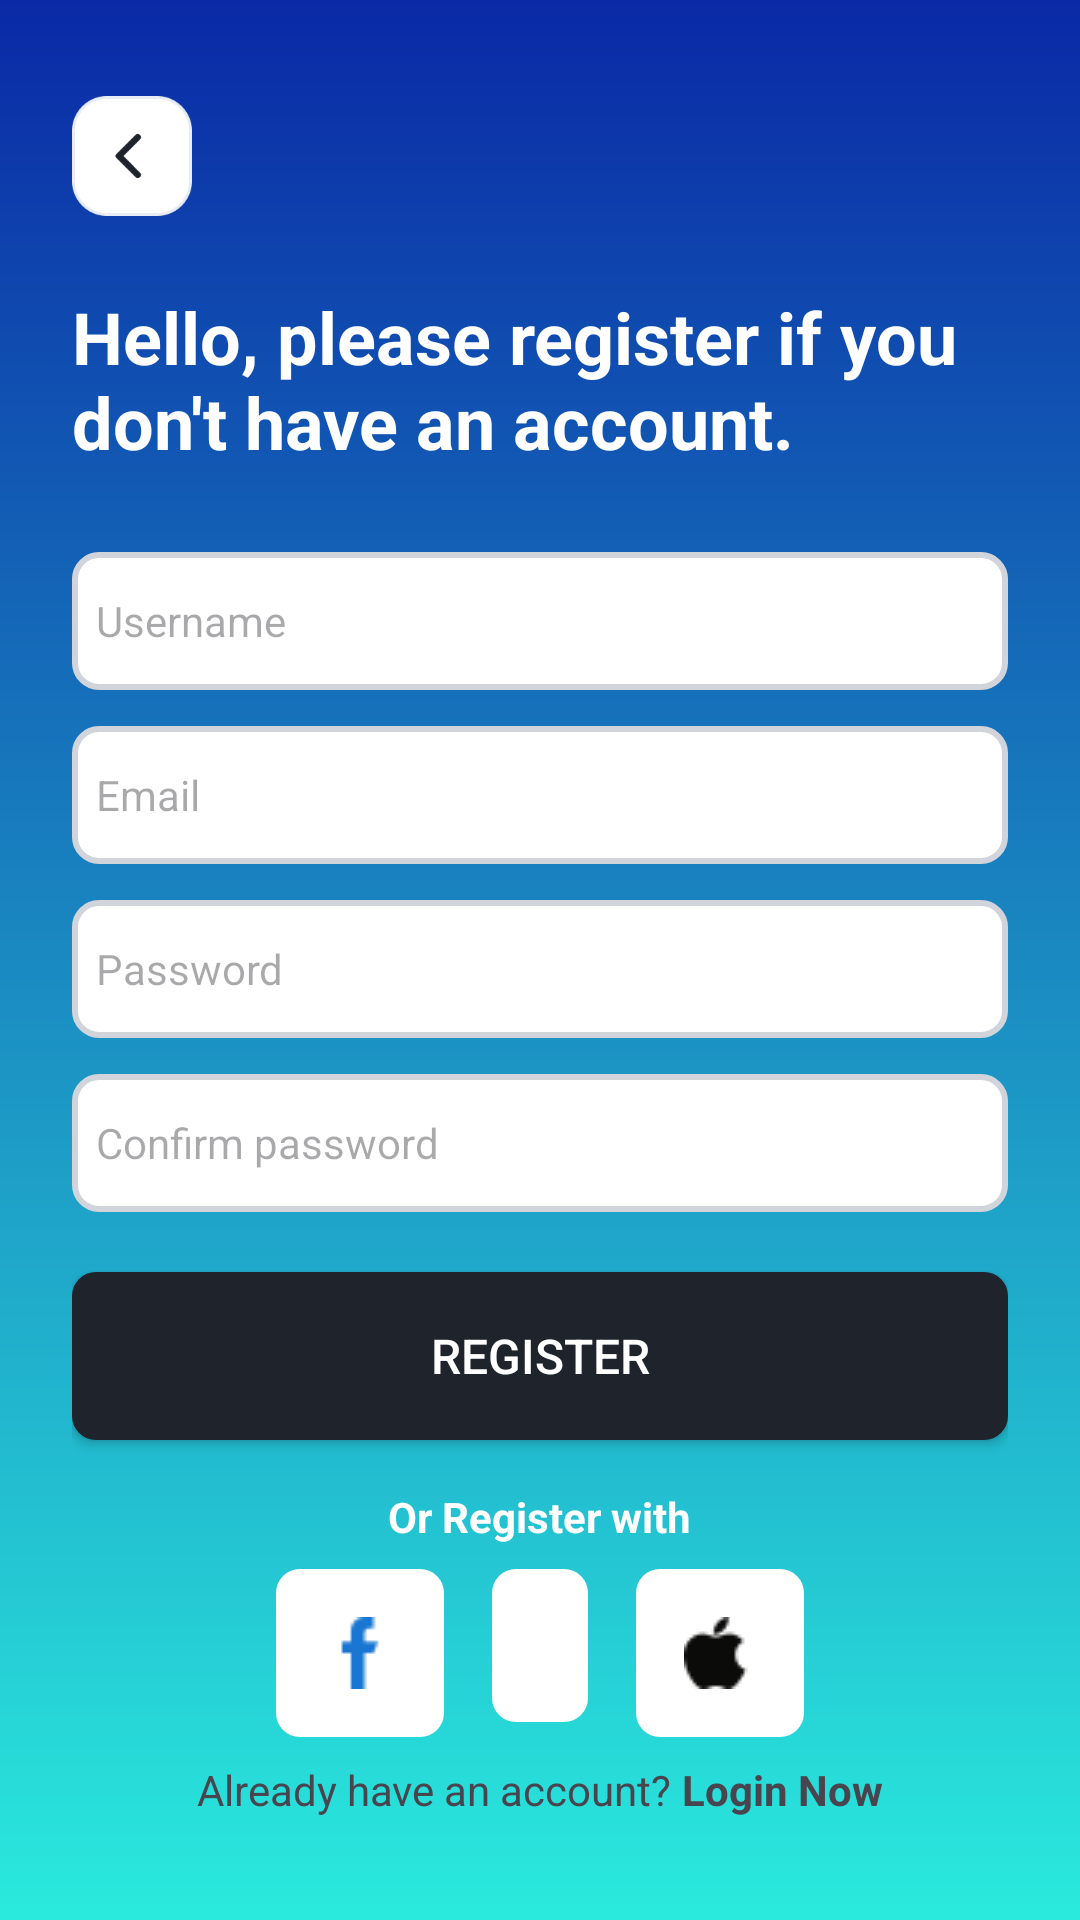

Icon bounding boxes for this 1080×1920 phone screenshot, format (x1=x1, y1=y1, x2=x2, y2=y2):
back: (x1=72, y1=96, x2=192, y2=216)
